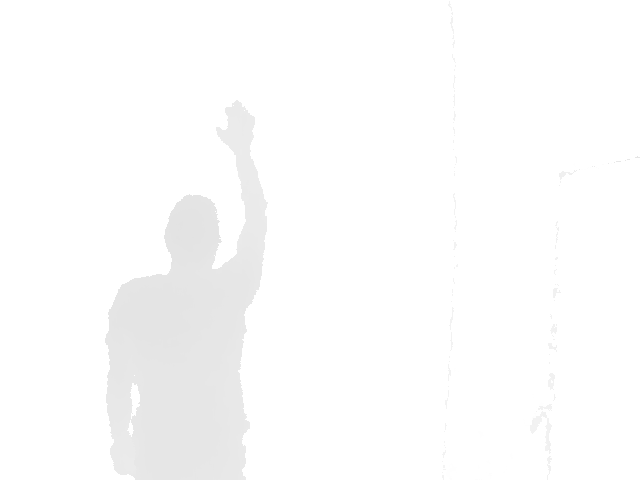hand: (214, 100, 256, 151)
head: (164, 194, 221, 274)
person: (104, 99, 269, 480)
